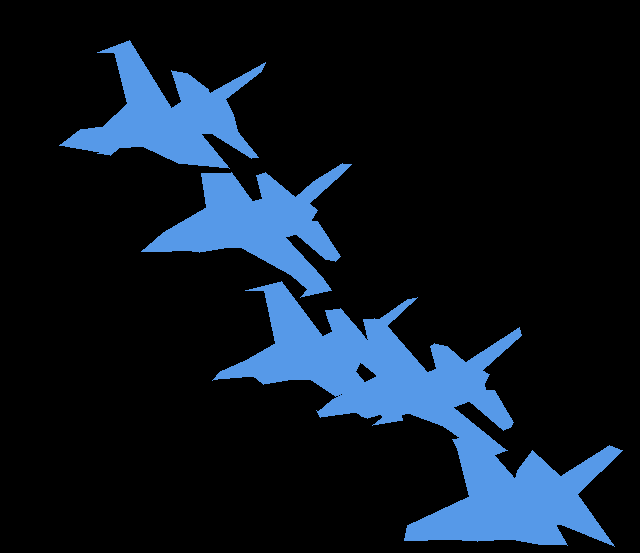Airplane: (316, 318, 521, 461), (141, 163, 352, 297), (59, 40, 266, 168), (404, 436, 623, 547), (212, 281, 417, 396)
